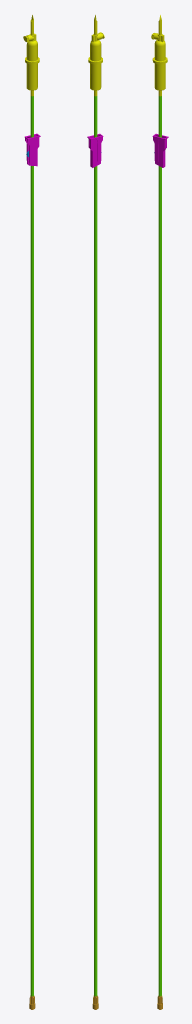
The model's file is Sistema_LowPoly_v5.fbx.
3 renders of one model, left to right at view 1: azimuth 30°, elevation 25°; view 2: azimuth 210°, elevation 25°; view 3: azimuth 330°, elevation 25°, orthographic.
Parts seen in each view (by area): view 1: pCylinder18, pCylinder14, pCube6; view 2: pCylinder18, pCylinder14, pCube6; view 3: pCylinder18, pCylinder14, pCube6.
Boxes of the visible parts, x1,y1,x2,y2 form: pCylinder18: (30,96,33,996); pCylinder14: (26,15,38,96); pCube6: (24,133,40,166); pCylinder18: (94,96,97,996); pCylinder14: (89,15,101,96); pCube6: (87,133,103,167); pCylinder18: (158,96,161,996); pCylinder14: (154,15,166,96); pCube6: (152,133,168,167).
Bounding box in the file's own units: 2.37 × 166 × 2.31.
